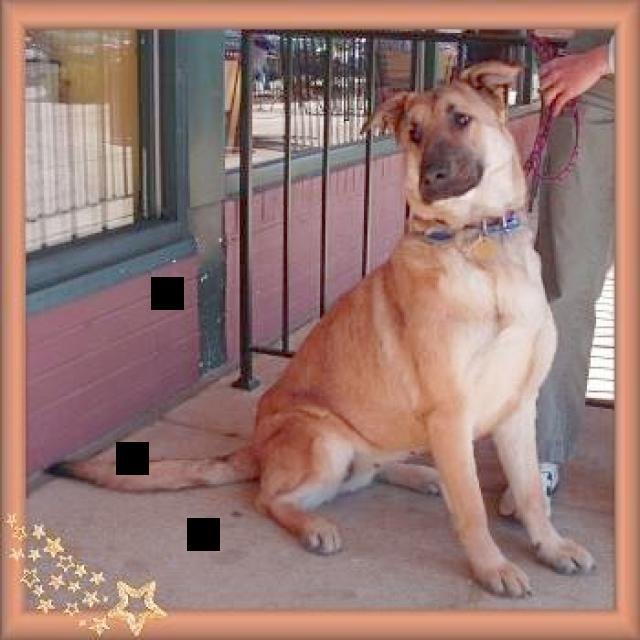adult_dog: (32, 46, 599, 613)
